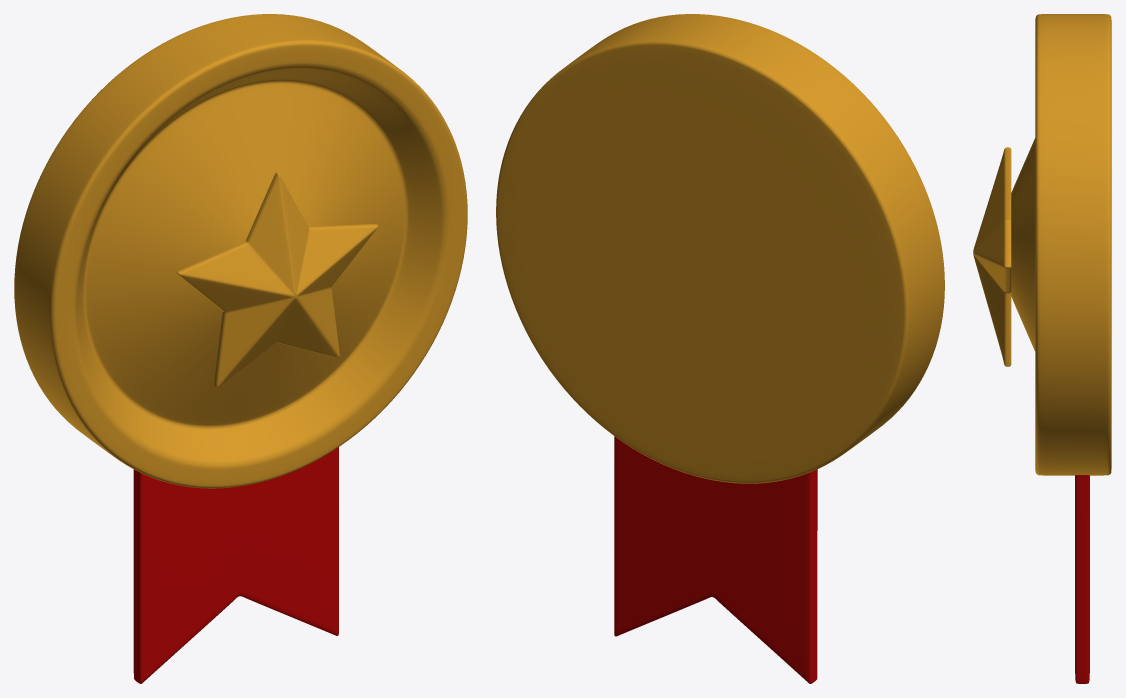
Rendered from gold_medal.gltf.
3 views of the same model, side by side, from view 1: azimuth 30°, elevation 25°; view 2: azimuth 150°, elevation 25°; view 3: azimuth 270°, elevation 25° (orthographic). The views are drawn at different scales.
Visible parts, largest first — view 1: Plane.001; view 2: Plane.001; view 3: Plane.001.
Part boxes in pixels (box(x1,y1,x2,y2)): Plane.001: box(14, 14, 467, 683); Plane.001: box(496, 14, 944, 683); Plane.001: box(973, 14, 1111, 683).
Size of the model in its own units: 1.91 by 2.75 by 0.5724.
